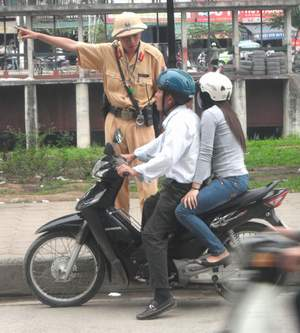police: (30, 11, 176, 213)
